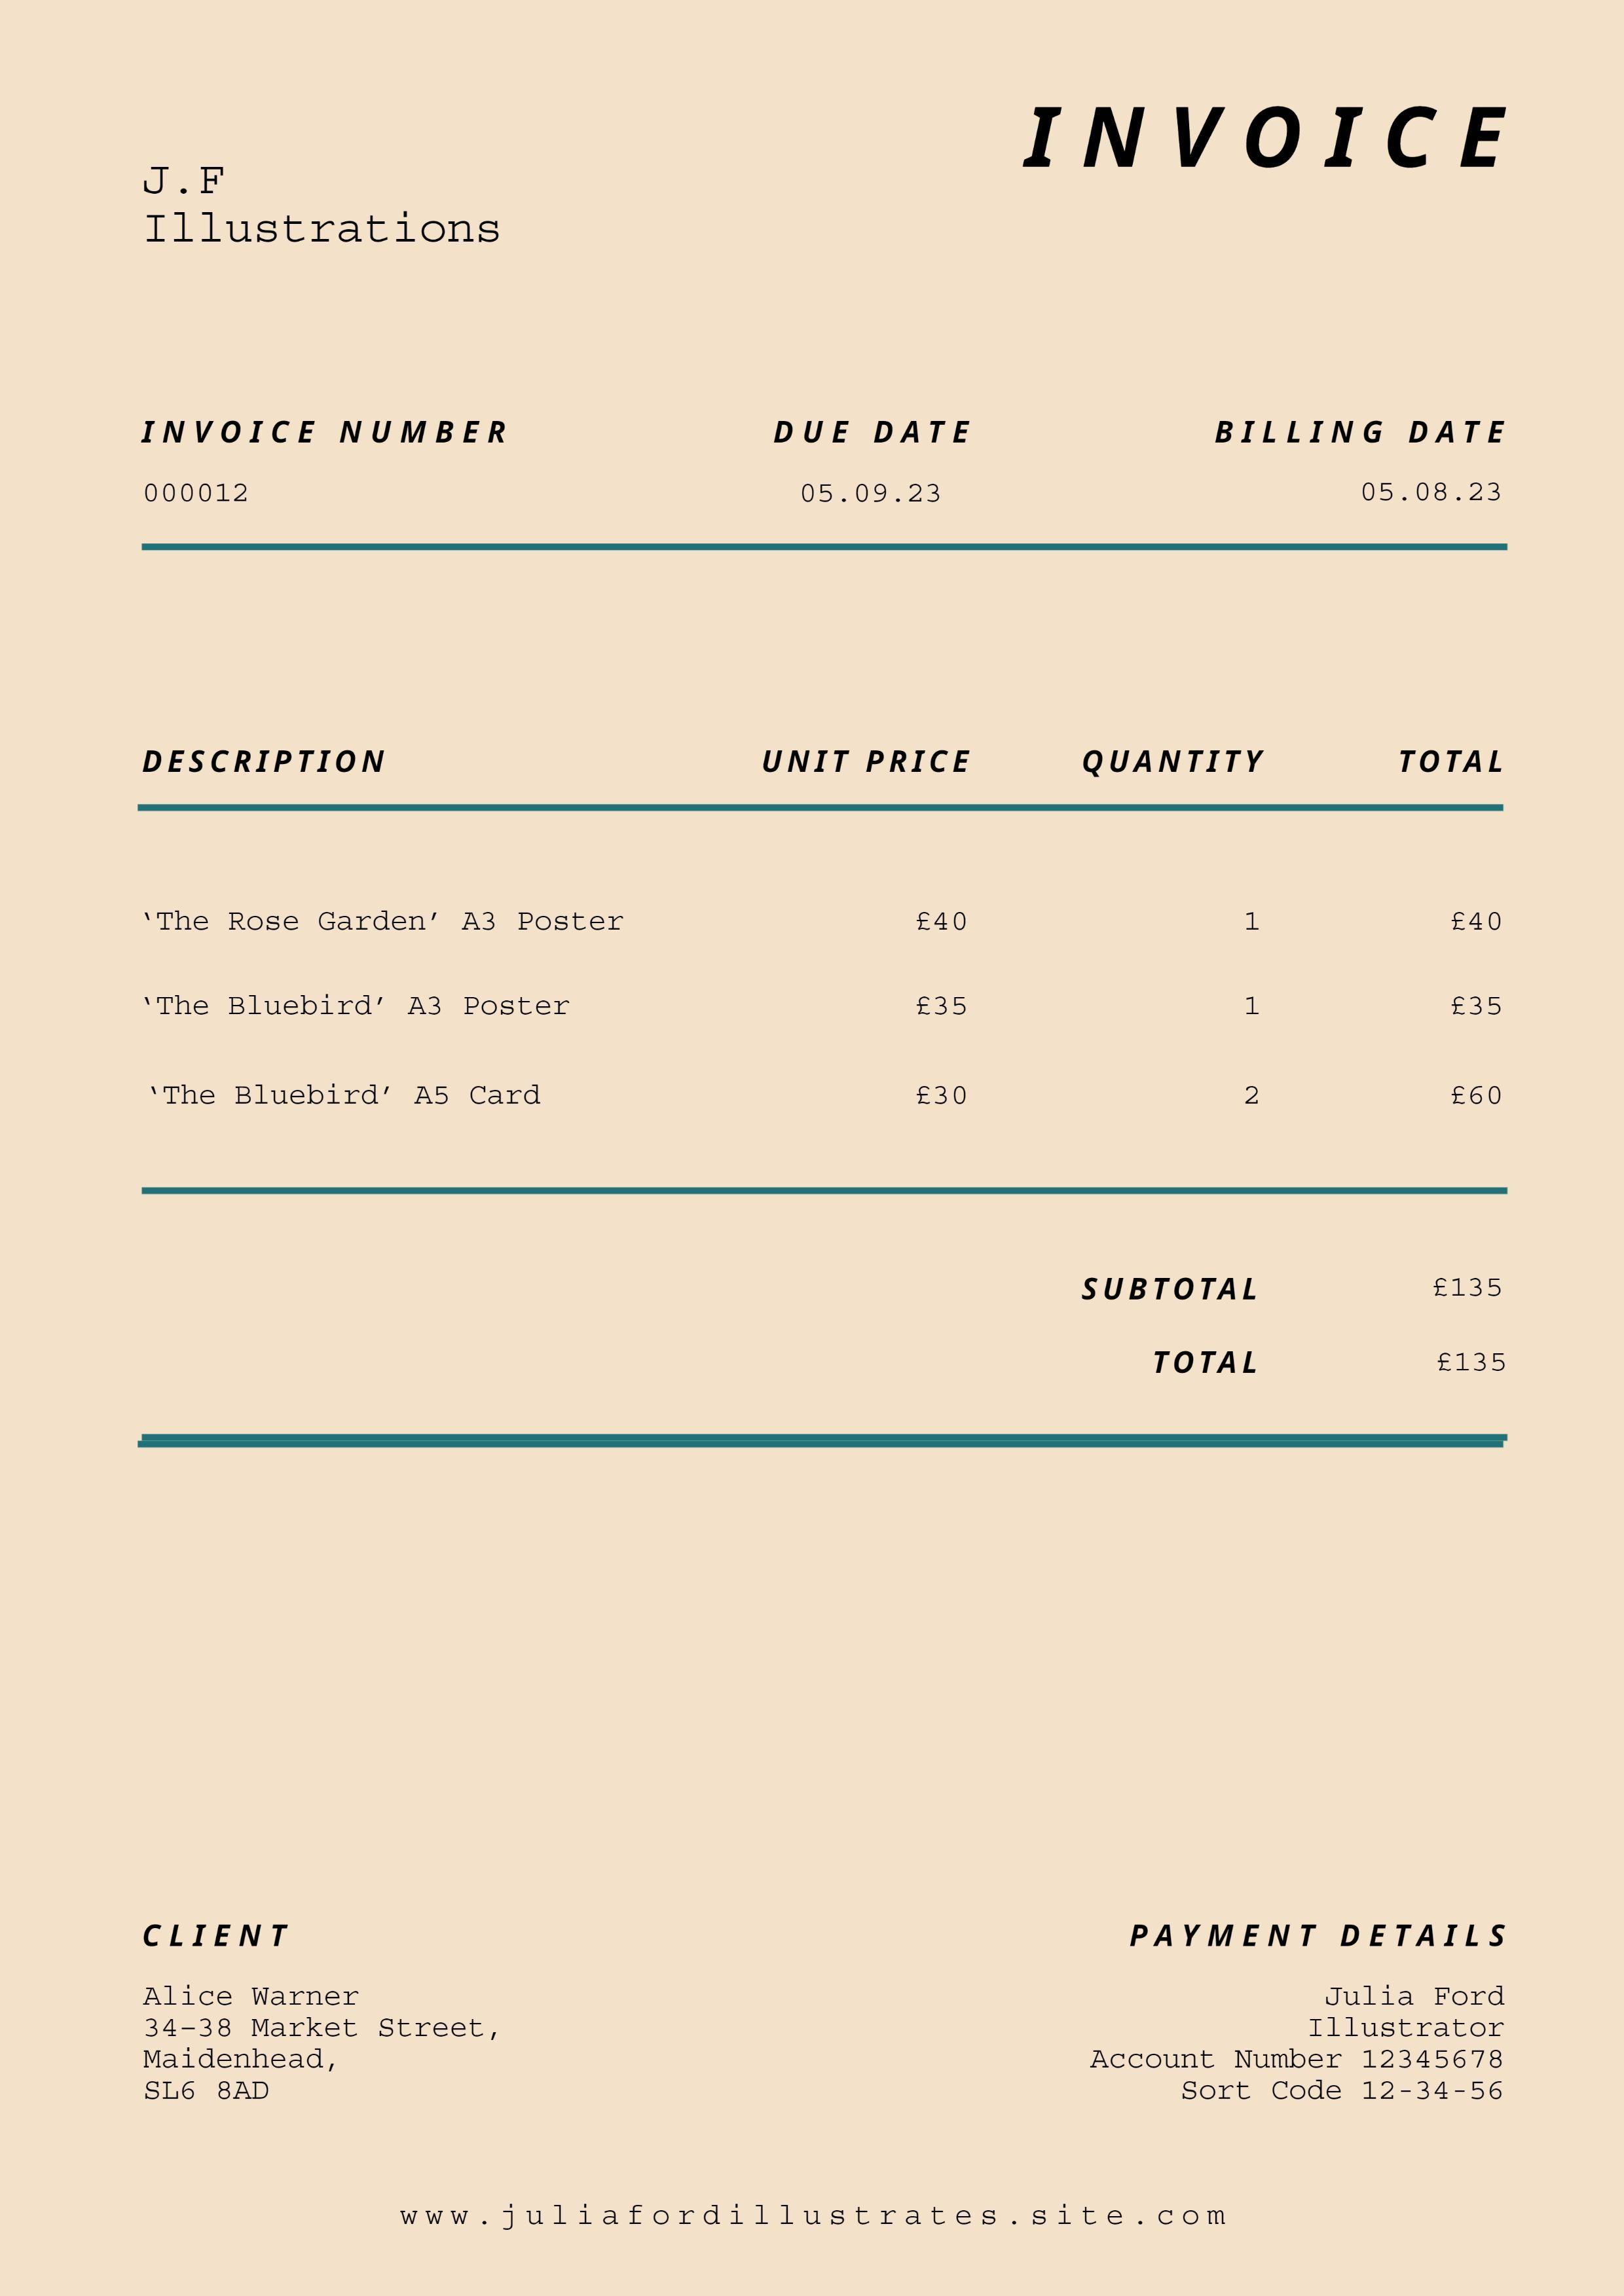ROI: (132, 733, 1512, 1173), (128, 408, 1538, 539), (1074, 1895, 1519, 2131), (118, 1906, 526, 2106), (1055, 1247, 1526, 1409), (118, 149, 518, 258)
